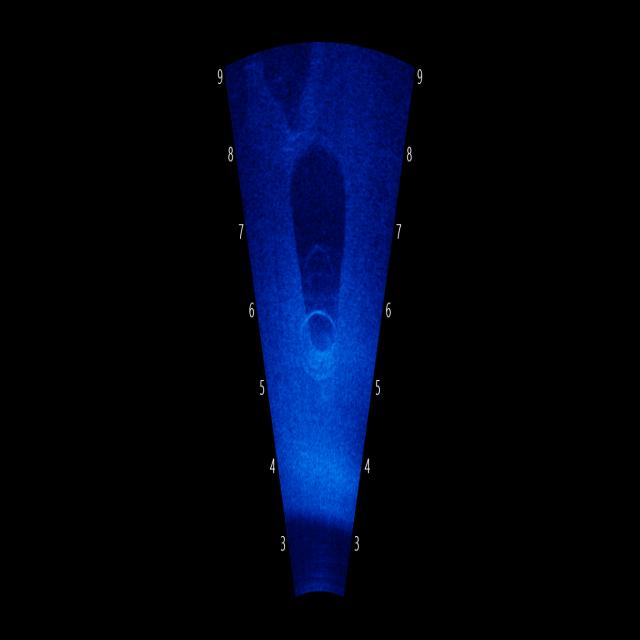circle: (290, 286, 350, 392)
